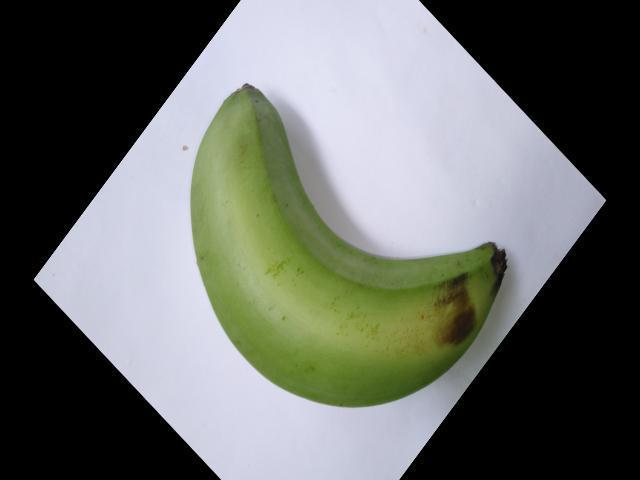freshunripe: (171, 73, 522, 437)
